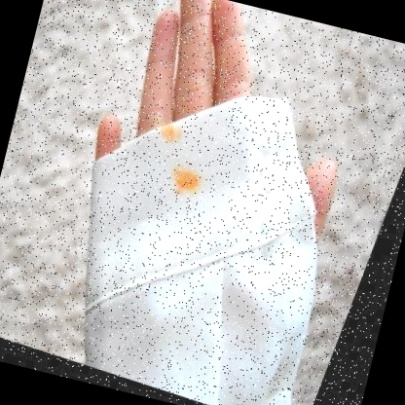kimchi: (171, 167, 201, 198), (153, 126, 180, 152)
